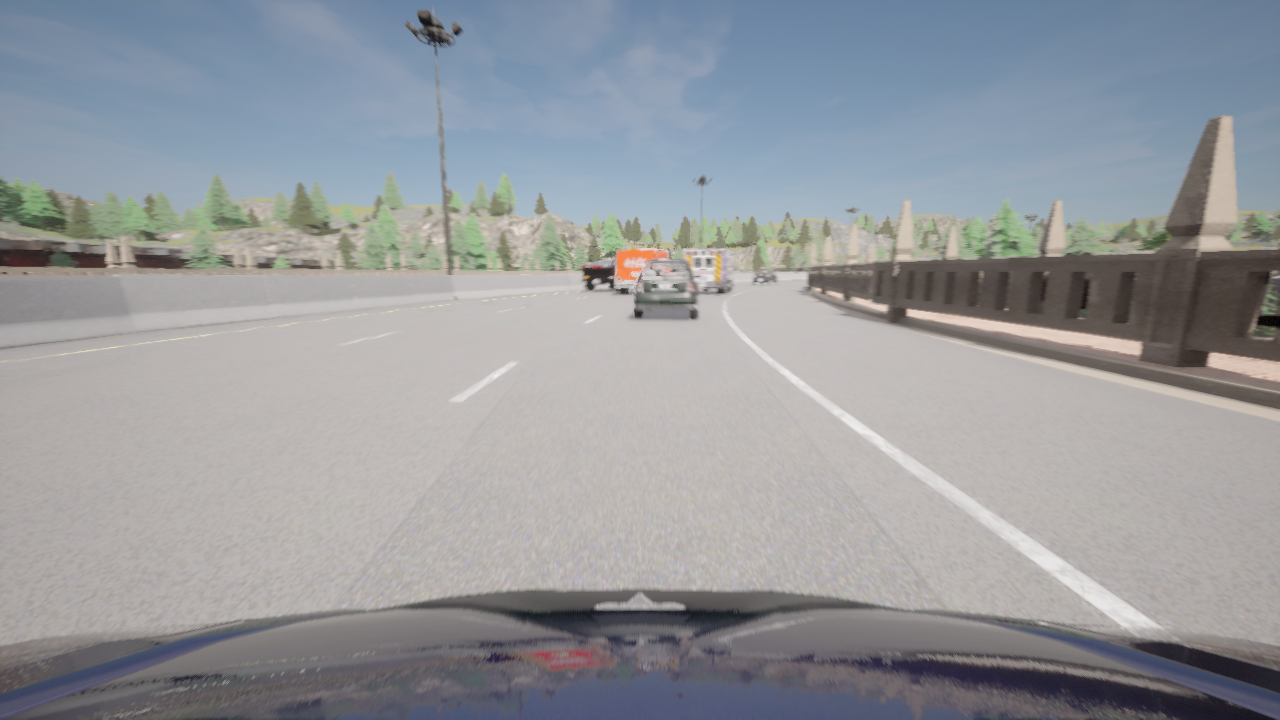cyclist: (0, 588, 1279, 719), (633, 260, 700, 319), (683, 248, 737, 293), (615, 249, 669, 293), (581, 260, 619, 291), (752, 269, 778, 285)
